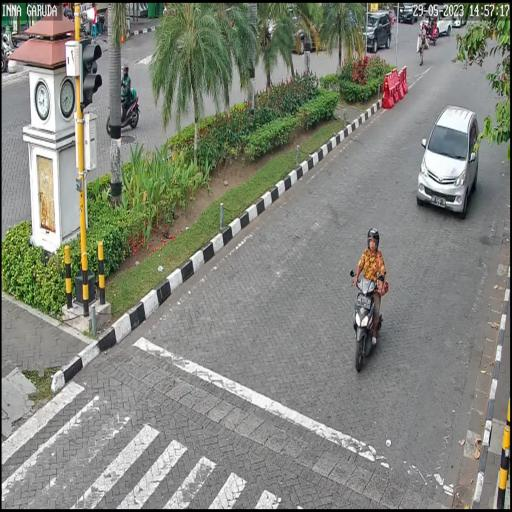mobil: (416, 103, 480, 217)
motor: (348, 268, 388, 372)
